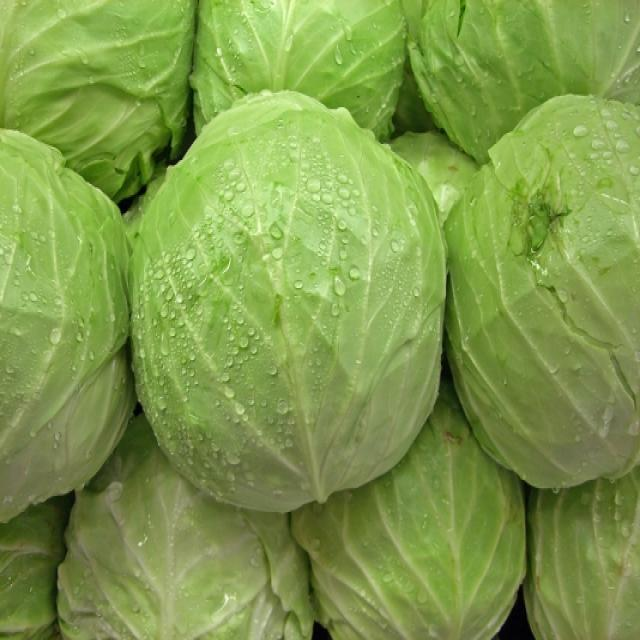cabbage: (122, 78, 451, 519), (446, 84, 640, 508)
